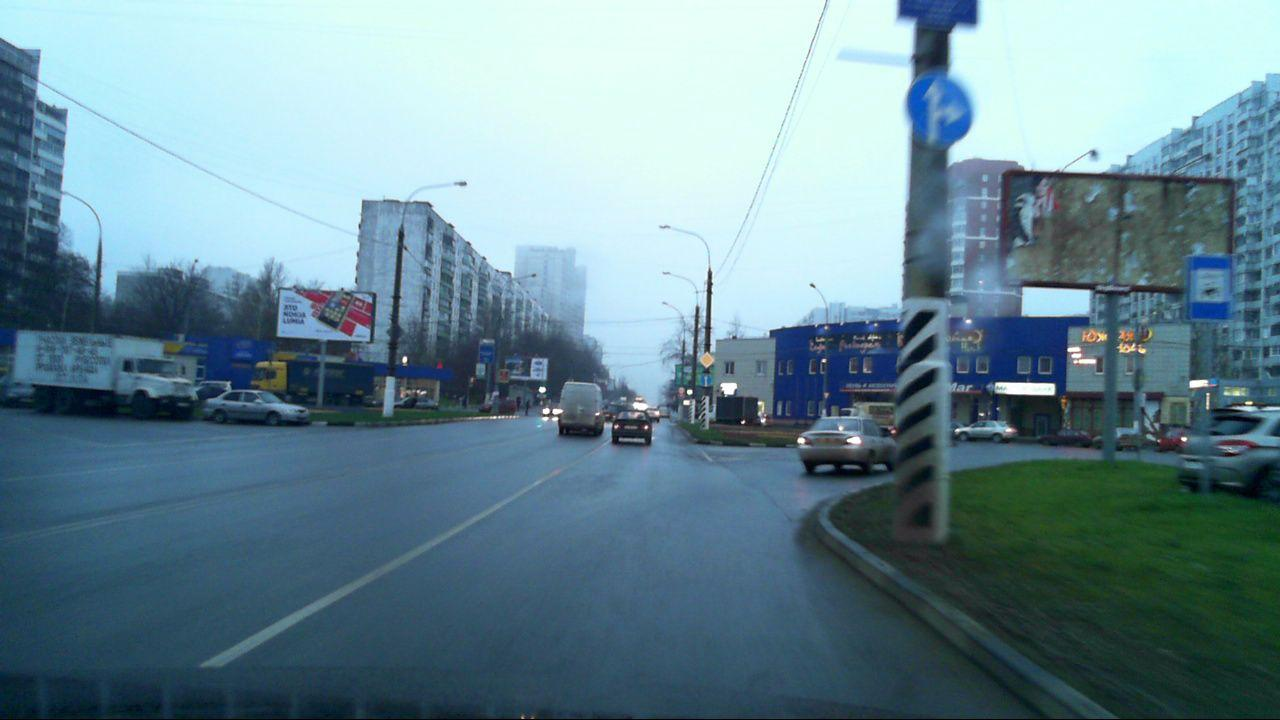2_1: (698, 352, 715, 368)
4_1_1: (699, 373, 712, 387)
4_1_4: (905, 72, 975, 147)
5_18: (1186, 255, 1232, 322)
